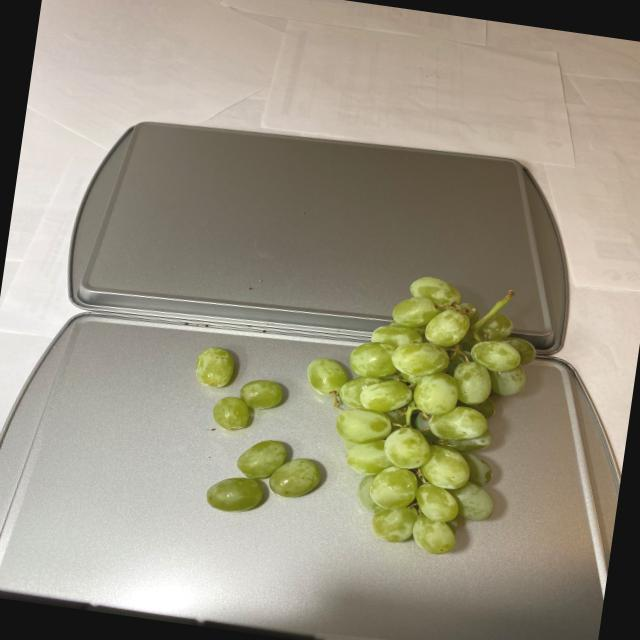grapes: (174, 247, 542, 562)
